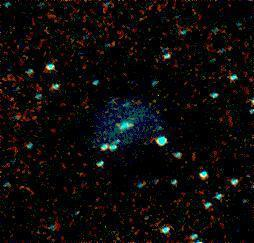star: (98, 86, 128, 116)
